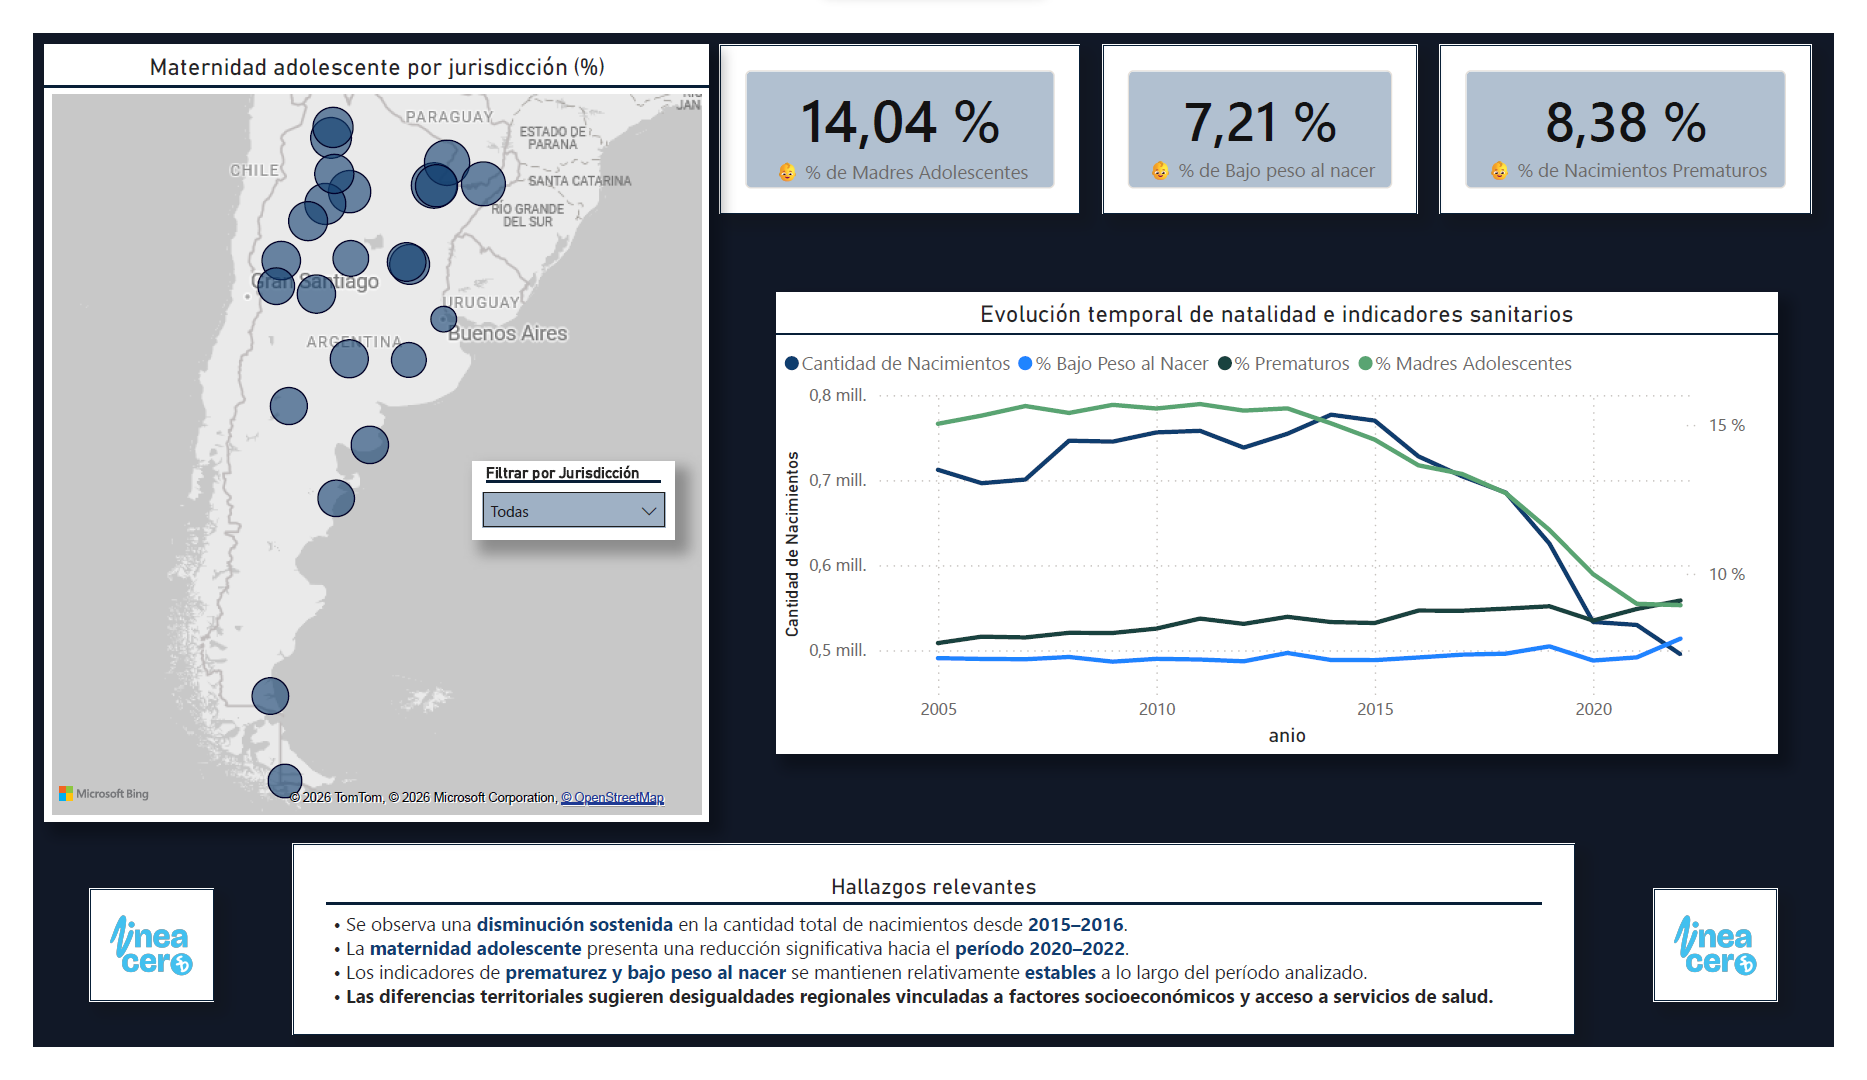

Layout of this report page (visuals, bound fields, positions):
{"tool":"powerbi","page":{"name":"Territorial / Mapa","canvas":[1280,720],"ordinal":3},"visuals":[{"type":"map","title":"Maternidad adolescente por jurisdicción (%)","fields":{"Category":["dim dim_jurisdiccion.Provincia_Argentina"],"Size":["fact fact_nacimientos.Porcentaje_Madres_Adolescentes"],"Y":["Avg(dim dim_jurisdiccion.Latitud)"],"X":["Avg(dim dim_jurisdiccion.Longitud)"]},"box":[8,8,472,552],"z":0,"group":"g2"},{"type":"cardVisual","title":"Nacimientos en madres menores de 20 años","fields":{"Data":["dim dim_edad_madre.Porcentaje_Prematuros"]},"box":[1000,8,264,120],"z":0},{"type":"cardVisual","title":"Nacimientos en madres menores de 20 años","fields":{"Data":["dim dim_edad_madre.Porcentaje_Bajo_Peso"]},"box":[760,8,224,120],"z":1000},{"type":"cardVisual","title":"Nacimientos en madres menores de 20 años","fields":{"Data":["fact fact_nacimientos.Porcentaje_Madres_Adolescentes"]},"box":[488,8,256,120],"z":2000},{"type":"lineChart","title":"Evolución temporal de natalidad e indicadores sanitarios","fields":{"Category":["dim dim_tiempo.anio"],"Y":["Sum(fact fact_nacimientos.nacimientos_cantidad)"],"Y2":["dim dim_edad_madre.Porcentaje_Bajo_Peso","dim dim_edad_madre.Porcentaje_Prematuros","fact fact_nacimientos.Porcentaje_Madres_Adolescentes"]},"box":[528,184,712,328],"z":3000},{"type":"shape","box":[184,576,912,136],"z":3000,"group":"g1"},{"type":"slicer","fields":{"Values":["dim dim_jurisdiccion.jurisdicion_residencia_nombre"]},"box":[312,304,144,56],"z":3004,"group":"g2"},{"type":"textbox","title":"Hallazgos relevantes","box":[208,592,864,112],"z":4000,"group":"g1"},{"type":"image","box":[1152,608,88,80],"z":4000},{"type":"group","id":"g1","title":"Grupo 1","box":[184,576,912,136],"z":5000},{"type":"group","id":"g2","title":"Grupo 2","box":[8,8,472,552],"z":6000},{"type":"image","box":[40,608,88,80],"z":7000}]}

Visuals, with their boxes in screenshot pixels (x1, y1, x2, y2), scaled from the page's 1280x720 canvas onto the 1867x1080 screenshot:
"Maternidad adolescente por jurisdicción (%)" map: [12,12,700,840]
"Nacimientos en madres menores de 20 años" cardVisual: [1459,12,1844,192]
"Nacimientos en madres menores de 20 años" cardVisual: [1109,12,1435,192]
"Nacimientos en madres menores de 20 años" cardVisual: [712,12,1085,192]
"Evolución temporal de natalidad e indicadores sanitarios" lineChart: [770,276,1809,768]
shape: [268,864,1599,1068]
slicer - dim dim_jurisdiccion.jurisdicion_residencia_nombre: [455,456,665,540]
"Hallazgos relevantes" textbox: [303,888,1564,1056]
image: [1680,912,1809,1032]
"Grupo 1" group: [268,864,1599,1068]
"Grupo 2" group: [12,12,700,840]
image: [58,912,187,1032]
